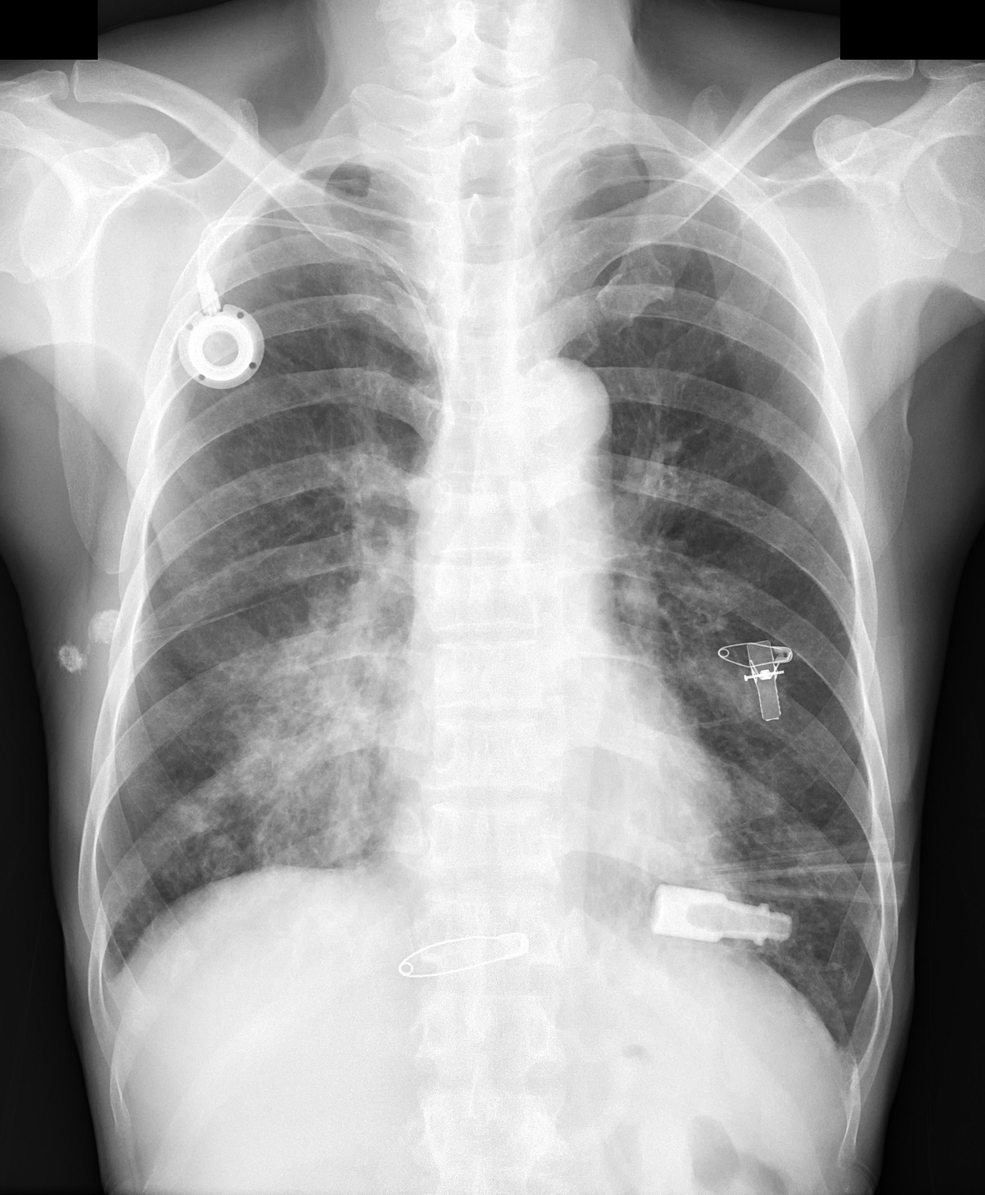Aortic enlargement: (503, 350, 618, 476)
Pleural thickening: (75, 895, 127, 1014)
